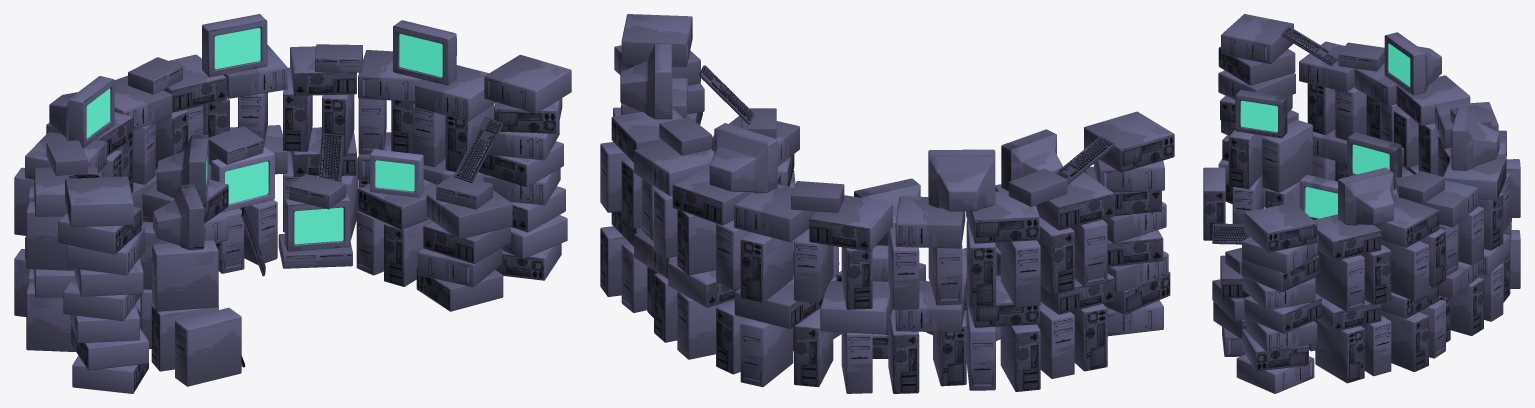
File: computers_1-transformed.glb
The picture shows the model from 3 angles, left to right: view 1: azimuth 30°, elevation 25°; view 2: azimuth 150°, elevation 25°; view 3: azimuth 270°, elevation 25°; orthographic projection. The views are drawn at different scales.
Visible parts, largest first — view 1: PC 01.011_30, PC 01.010_29, PC 02.026_76, Screen D.003_109, Screen D.004_110, PC 02.012_38, Screen D.002_108, Screen D.001_105, PC 01.052_97, Screen C.001_102, PC 01.007_23, Screen B.002_107 (+67 smaller); view 2: Screen D.002_108, Screen D.003_109, PC 02.012_38, PC 01.032_64, PC 02.021_61, PC 01.031_63, Screen D.004_110, PC 02.016_47, PC 02.026_76, PC 01.033_65, PC 02.022_66, PC 01.030_62 (+57 smaller); view 3: PC 01.005_17, Screen D.004_110, PC 02.026_76, PC 02.012_38, Screen D.002_108, PC 02.027_78, PC 02.032_90, Screen D.003_109, Screen B.002_107, PC 01.052_97, PC 01.038_77, PC 01.047_89 (+59 smaller).
Part boxes in pixels (x1=…): PC 01.011_30: x1=175, y1=307, x2=241, y2=386; PC 01.010_29: x1=152, y1=240, x2=218, y2=311; PC 02.026_76: x1=484, y1=54, x2=571, y2=113; Screen D.003_109: x1=202, y1=14, x2=267, y2=76; Screen D.004_110: x1=393, y1=20, x2=456, y2=85; PC 02.012_38: x1=65, y1=176, x2=133, y2=227; Screen D.002_108: x1=49, y1=76, x2=114, y2=148; Screen D.001_105: x1=284, y1=194, x2=350, y2=251; PC 01.052_97: x1=415, y1=65, x2=495, y2=121; Screen C.001_102: x1=211, y1=147, x2=274, y2=212; PC 01.007_23: x1=426, y1=190, x2=512, y2=239; Screen B.002_107: x1=153, y1=184, x2=204, y2=249; Screen D.002_108: x1=928, y1=149, x2=995, y2=211; Screen D.003_109: x1=709, y1=123, x2=777, y2=193; PC 02.012_38: x1=1084, y1=111, x2=1174, y2=172; PC 01.032_64: x1=809, y1=195, x2=892, y2=251; PC 02.021_61: x1=740, y1=232, x2=793, y2=302; PC 01.031_63: x1=895, y1=196, x2=965, y2=248; Screen D.004_110: x1=620, y1=44, x2=672, y2=119; PC 02.016_47: x1=740, y1=318, x2=793, y2=387; PC 02.026_76: x1=621, y1=14, x2=692, y2=66; PC 01.033_65: x1=734, y1=184, x2=815, y2=241; PC 02.022_66: x1=966, y1=191, x2=1039, y2=243; PC 01.030_62: x1=1036, y1=172, x2=1114, y2=230; PC 01.005_17: x1=1262, y1=119, x2=1312, y2=192; Screen D.004_110: x1=1338, y1=167, x2=1393, y2=225; PC 02.026_76: x1=1244, y1=202, x2=1317, y2=252; PC 02.012_38: x1=1221, y1=14, x2=1293, y2=63; Screen D.002_108: x1=1384, y1=32, x2=1441, y2=95; PC 02.027_78: x1=1315, y1=320, x2=1364, y2=383; PC 02.032_90: x1=1315, y1=250, x2=1364, y2=312; Screen D.003_109: x1=1451, y1=107, x2=1499, y2=170; Screen B.002_107: x1=1235, y1=90, x2=1287, y2=138; PC 01.052_97: x1=1314, y1=214, x2=1381, y2=261; PC 01.038_77: x1=1381, y1=311, x2=1428, y2=371; PC 01.047_89: x1=1381, y1=240, x2=1428, y2=301.
Size of the model in its own units: 14.29 by 5.52 by 8.69.
3 materials, 1 textured.
